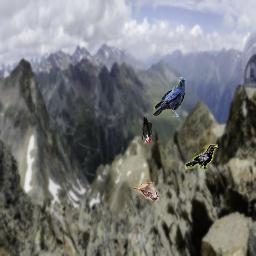Crow: (153, 77, 185, 117), (185, 144, 218, 169)
Sparrow: (134, 182, 159, 201)
Woodpecker: (141, 117, 152, 145)
